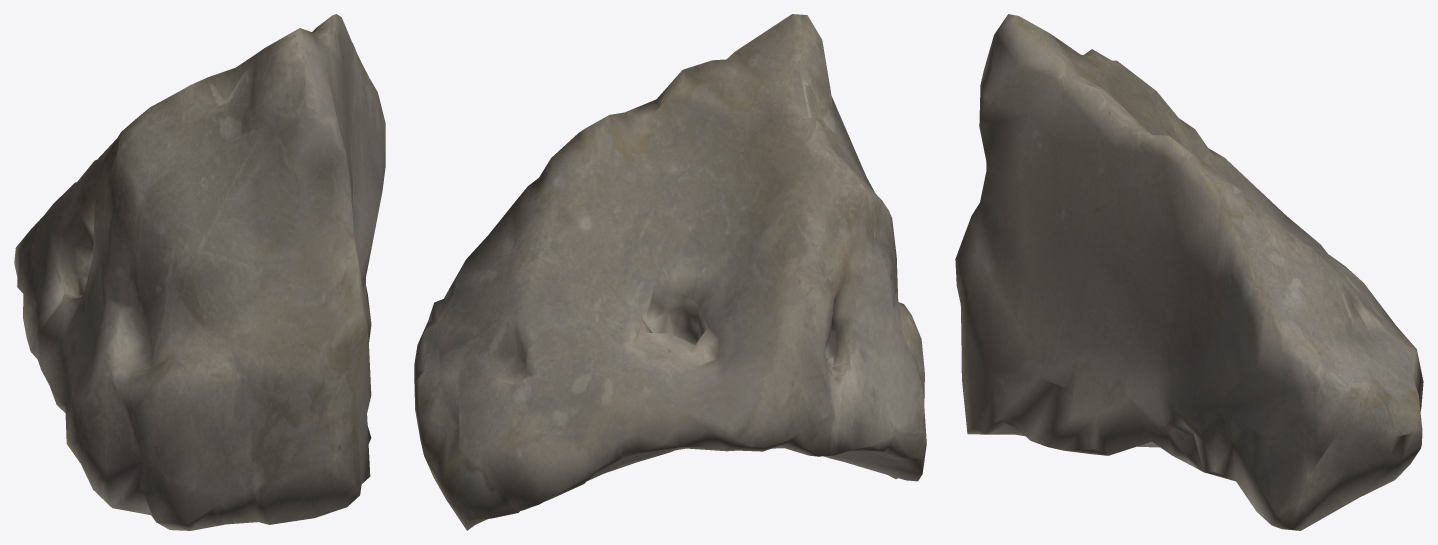
File: moon_rock_06_hi.glb
3 renders of one model, left to right at view 1: azimuth 30°, elevation 25°; view 2: azimuth 150°, elevation 25°; view 3: azimuth 270°, elevation 25°, orthographic. The views are drawn at different scales.
Parts seen in each view (by area): view 1: moon_rock_06_hi; view 2: moon_rock_06_hi; view 3: moon_rock_06_hi.
Part boxes in pixels (x1,y1,x2,y2): moon_rock_06_hi: (14, 14, 385, 530); moon_rock_06_hi: (414, 14, 926, 530); moon_rock_06_hi: (955, 14, 1423, 530).
Size of the model in its own units: 0.9318 by 1 by 0.9998.
1 material, 1 textured.
